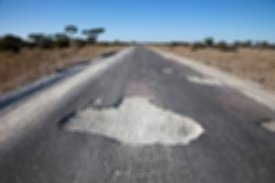pothole: (52, 86, 213, 153), (255, 113, 274, 139), (185, 73, 221, 85), (159, 67, 175, 73)
